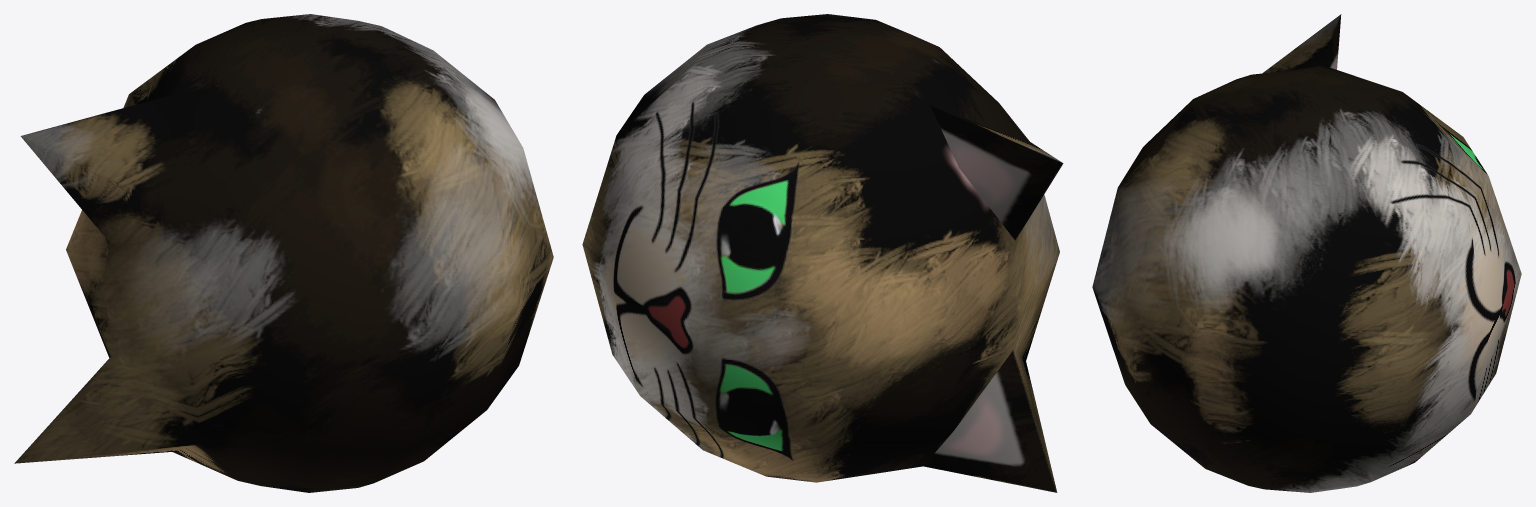
Rendered from head.fbx.
3 views of the same model, side by side, from view 1: azimuth 30°, elevation 25°; view 2: azimuth 150°, elevation 25°; view 3: azimuth 270°, elevation 25° (orthographic). The views are drawn at different scales.
Visible parts, largest first — view 1: head; view 2: head; view 3: head.
Boxes of the visible parts, x1,y1,x2,y2 form: head: (14, 14, 553, 492); head: (582, 14, 1063, 492); head: (1092, 14, 1521, 492).
Size of the model in its own units: 109 by 94.66 by 93.38.
